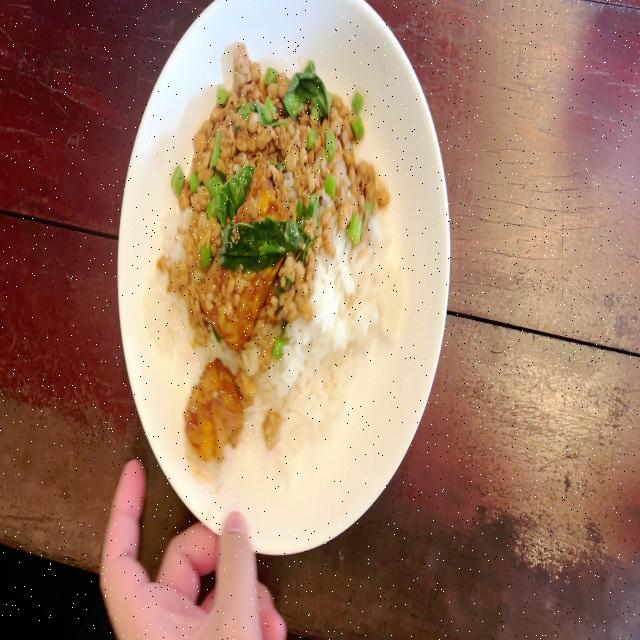fried_tofo: (206, 176, 294, 334), (188, 362, 234, 464)
minced_pork: (217, 37, 365, 172), (174, 71, 218, 339), (299, 159, 394, 235), (297, 183, 321, 320)
rice: (269, 324, 364, 446), (318, 233, 403, 365)
stir_fried_basil: (158, 34, 406, 482)
